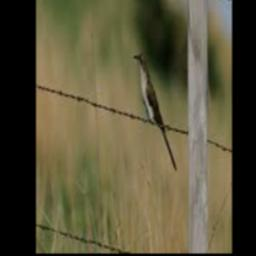Cuckoo: (133, 52, 176, 171)
